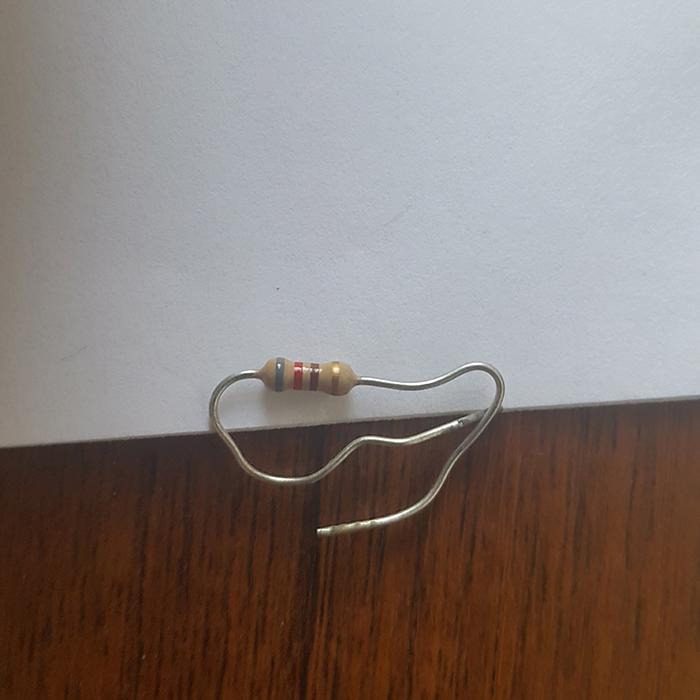resistor: (257, 356, 355, 395)
